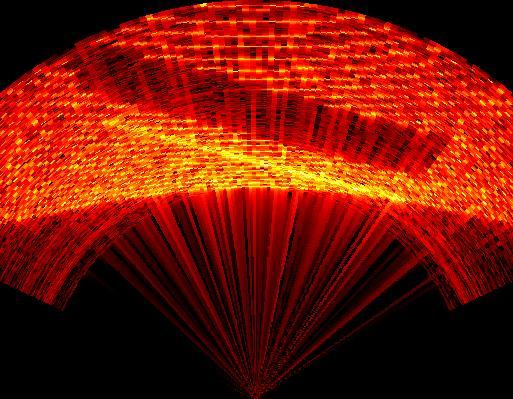pipe: (58, 38, 458, 179)
